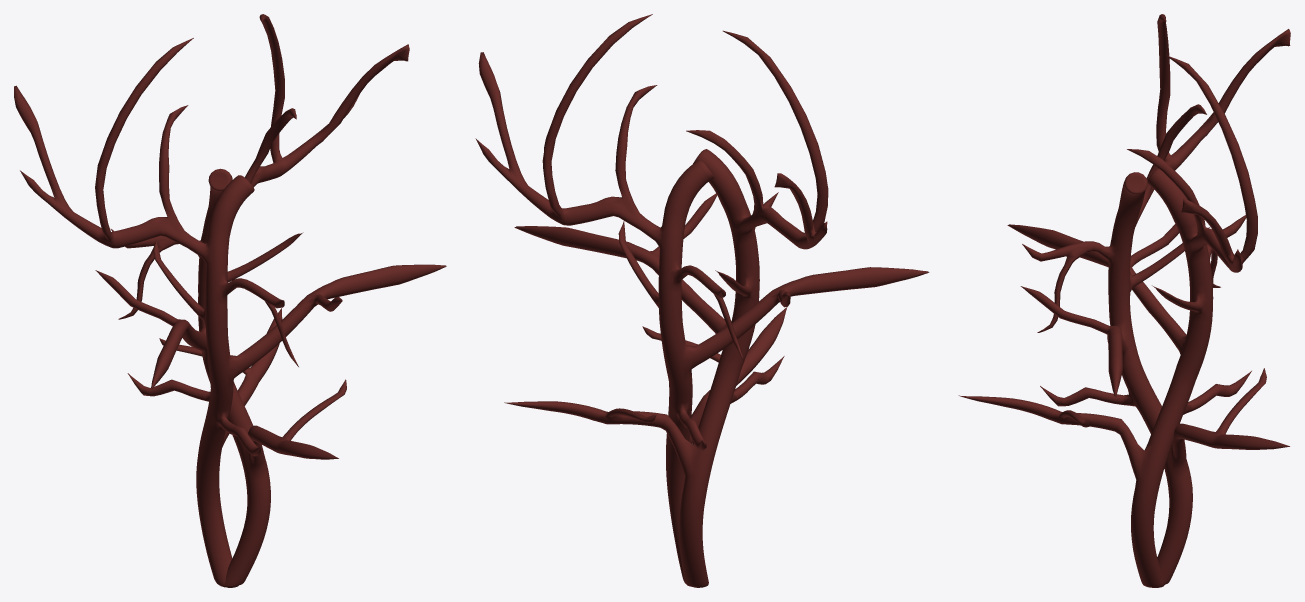
The model's file is Plant_01_moontree _state00.gltf.
3 renders of one model, left to right at view 1: azimuth 30°, elevation 25°; view 2: azimuth 150°, elevation 25°; view 3: azimuth 270°, elevation 25°, orthographic. The views are drawn at different scales.
Parts seen in each view (by area): view 1: Retopo_Cylinder; view 2: Retopo_Cylinder; view 3: Retopo_Cylinder.
Boxes of the visible parts, x1,y1,x2,y2 form: Retopo_Cylinder: [14, 14, 446, 587]; Retopo_Cylinder: [475, 14, 929, 587]; Retopo_Cylinder: [958, 14, 1290, 587].
Size of the model in its own units: 3.85 by 5.52 by 3.04.
